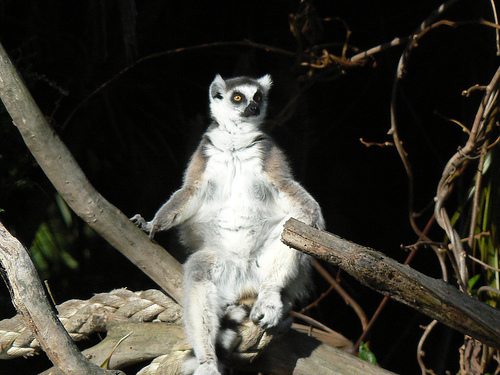cat: (129, 71, 326, 374)
